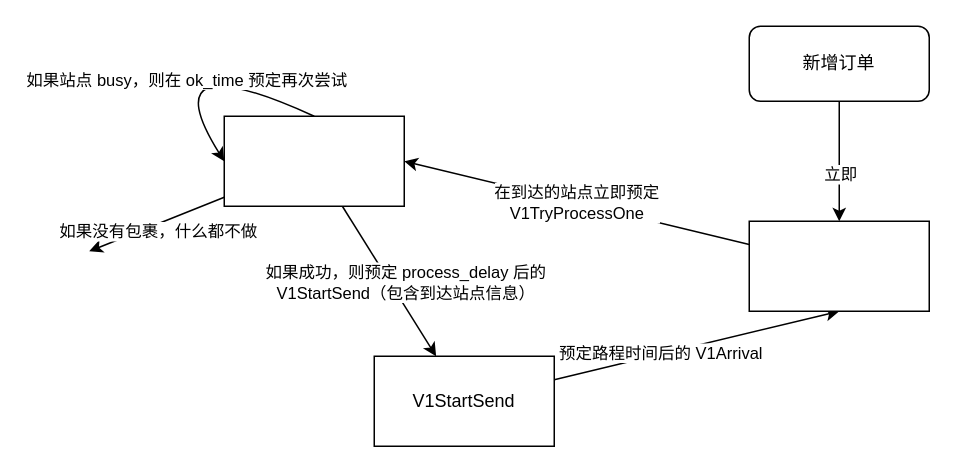
The diagram is 956 pixels wide and 473 high, and some of its shapes have lost their labels. Here are the shapes that lost their labels. From the top down, the centre of each, then its label:
At point 313,160: "V1TryProcessOne 寻找当前站点到终点的最短路".
At point 838,265: "V1Arrival".
